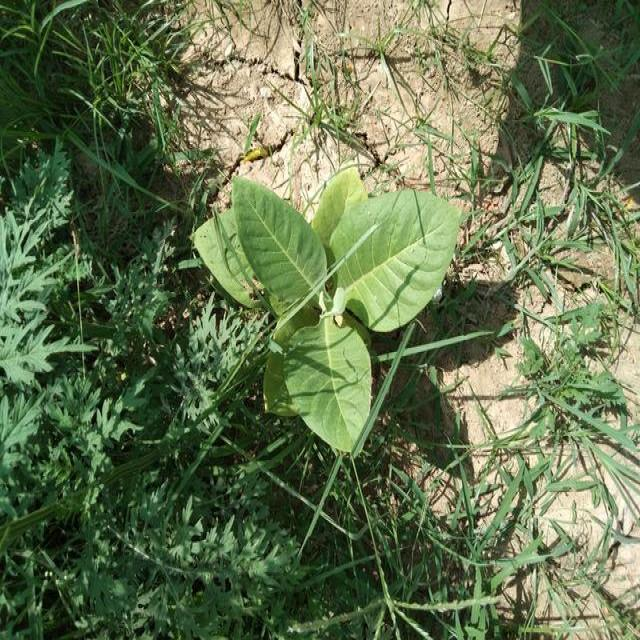crop: (206, 180, 455, 442)
